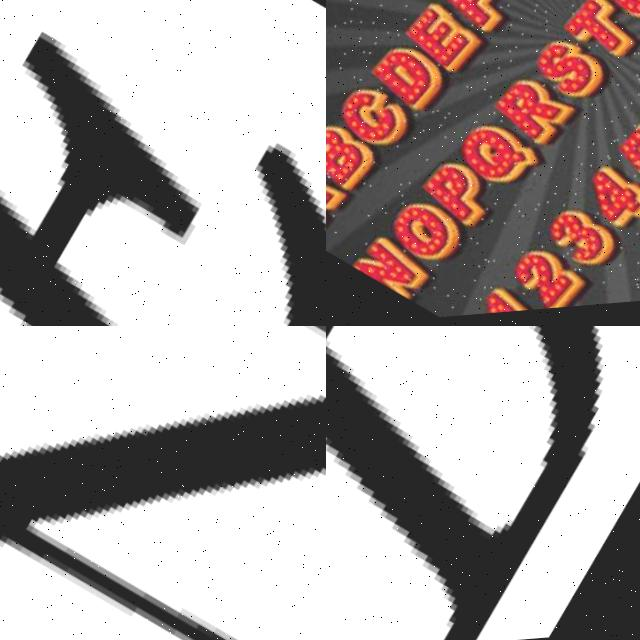1: (453, 282, 538, 319)
2: (492, 242, 574, 317)
3: (524, 201, 606, 280)
4: (554, 159, 640, 245)
5: (594, 119, 640, 202)
B: (326, 326, 599, 640)
E: (0, 31, 200, 326)
N: (0, 326, 326, 640)
